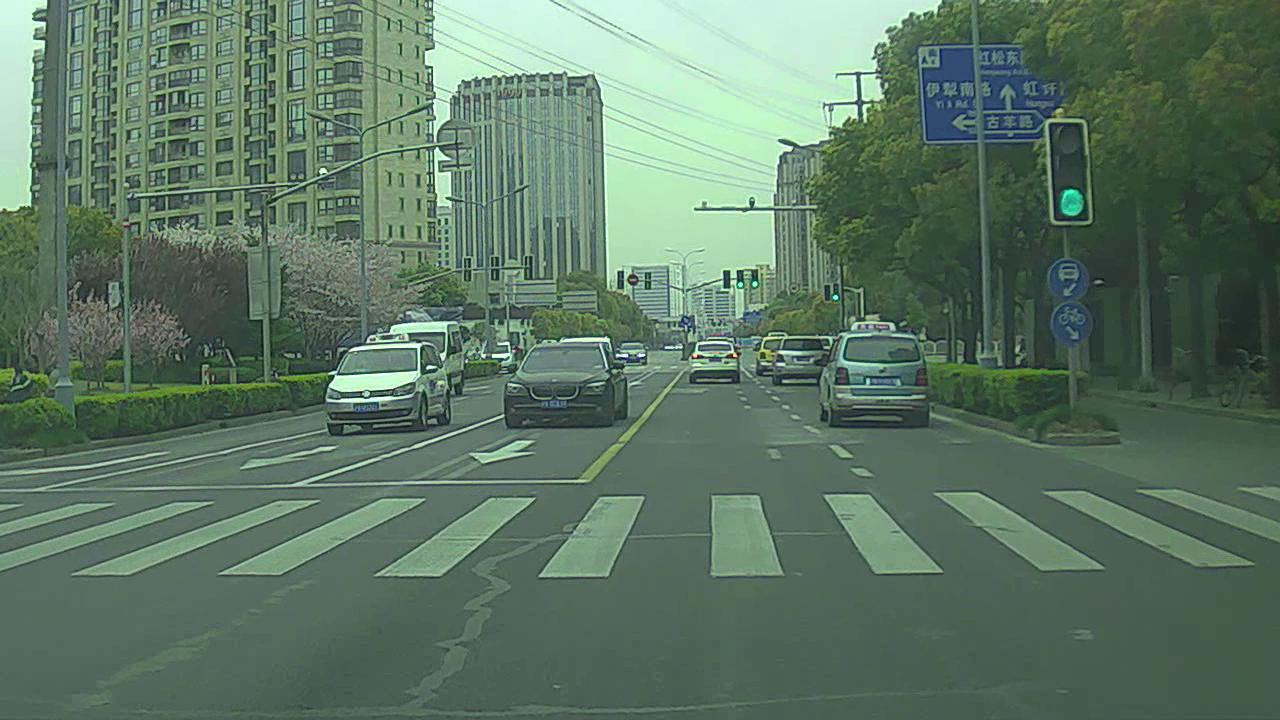traffic_light: (1050, 125, 1090, 221), (823, 284, 831, 304), (751, 268, 758, 288), (737, 269, 744, 289), (722, 270, 729, 290), (833, 283, 840, 302)
